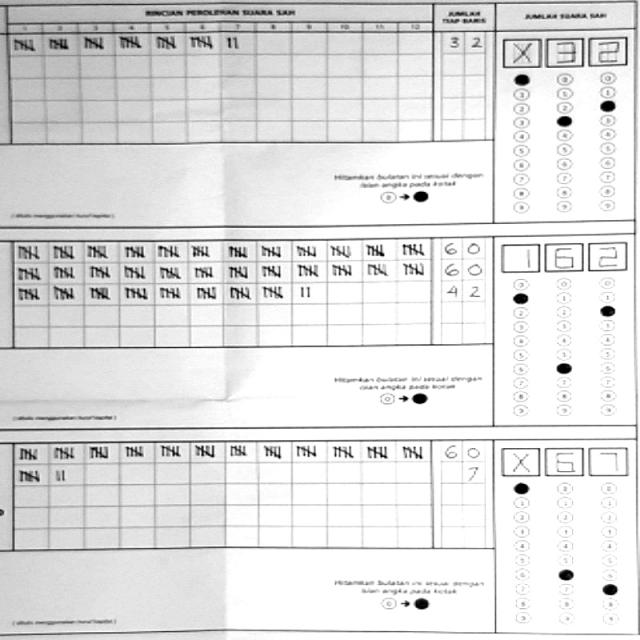Suara: (498, 440, 632, 479), (499, 31, 627, 68), (494, 238, 628, 271)
